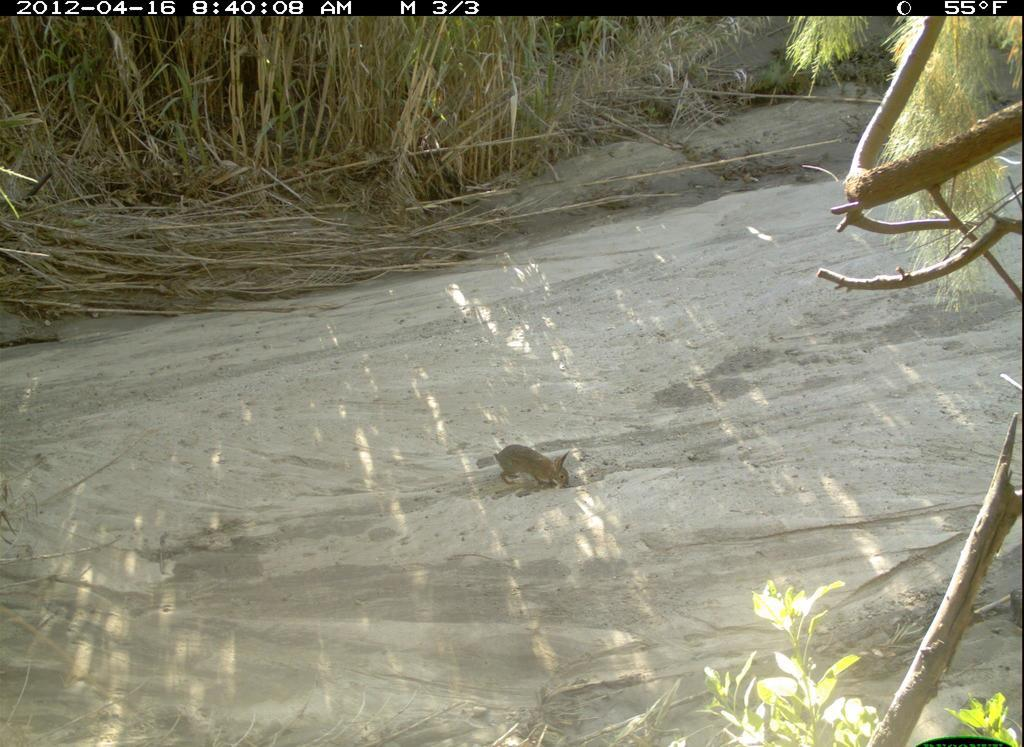rabbit: (491, 438, 574, 500)
